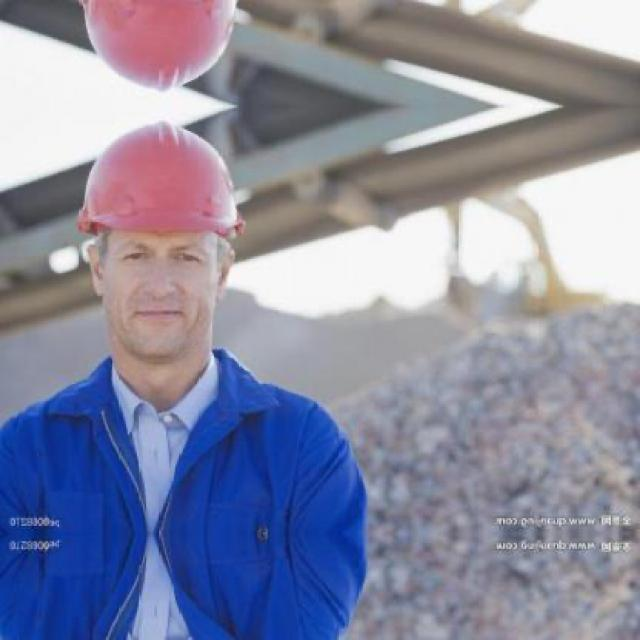helmet: (60, 118, 262, 392), (60, 0, 263, 96)
